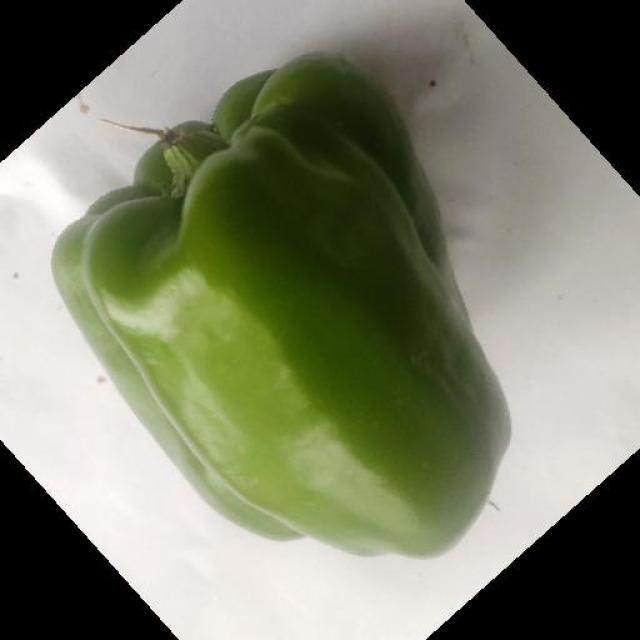Fresh_Capsicum: (108, 98, 504, 590)
